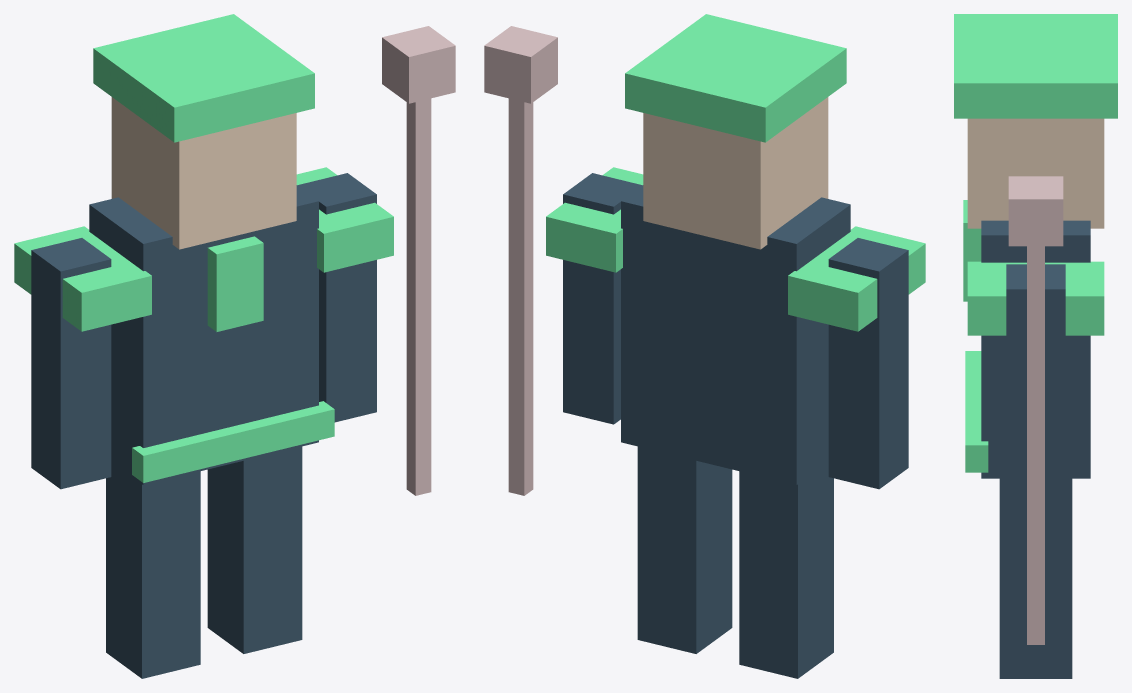
The model's file is 06_varren_mossguard_fixer_under_turret.glb.
3 views of the same model, side by side, from view 1: azimuth 30°, elevation 25°; view 2: azimuth 150°, elevation 25°; view 3: azimuth 270°, elevation 25° (orthographic).
Parts seen in each view (by area): view 1: Varren Mossguard, Fixer under Turret; view 2: Varren Mossguard, Fixer under Turret; view 3: Varren Mossguard, Fixer under Turret.
Part boxes in pixels (<box>): Varren Mossguard, Fixer under Turret: <box>14,14,455,678</box>; Varren Mossguard, Fixer under Turret: <box>484,14,925,678</box>; Varren Mossguard, Fixer under Turret: <box>954,14,1117,678</box>.
Size of the model in its own units: 1.07 by 1.51 by 0.3788.
